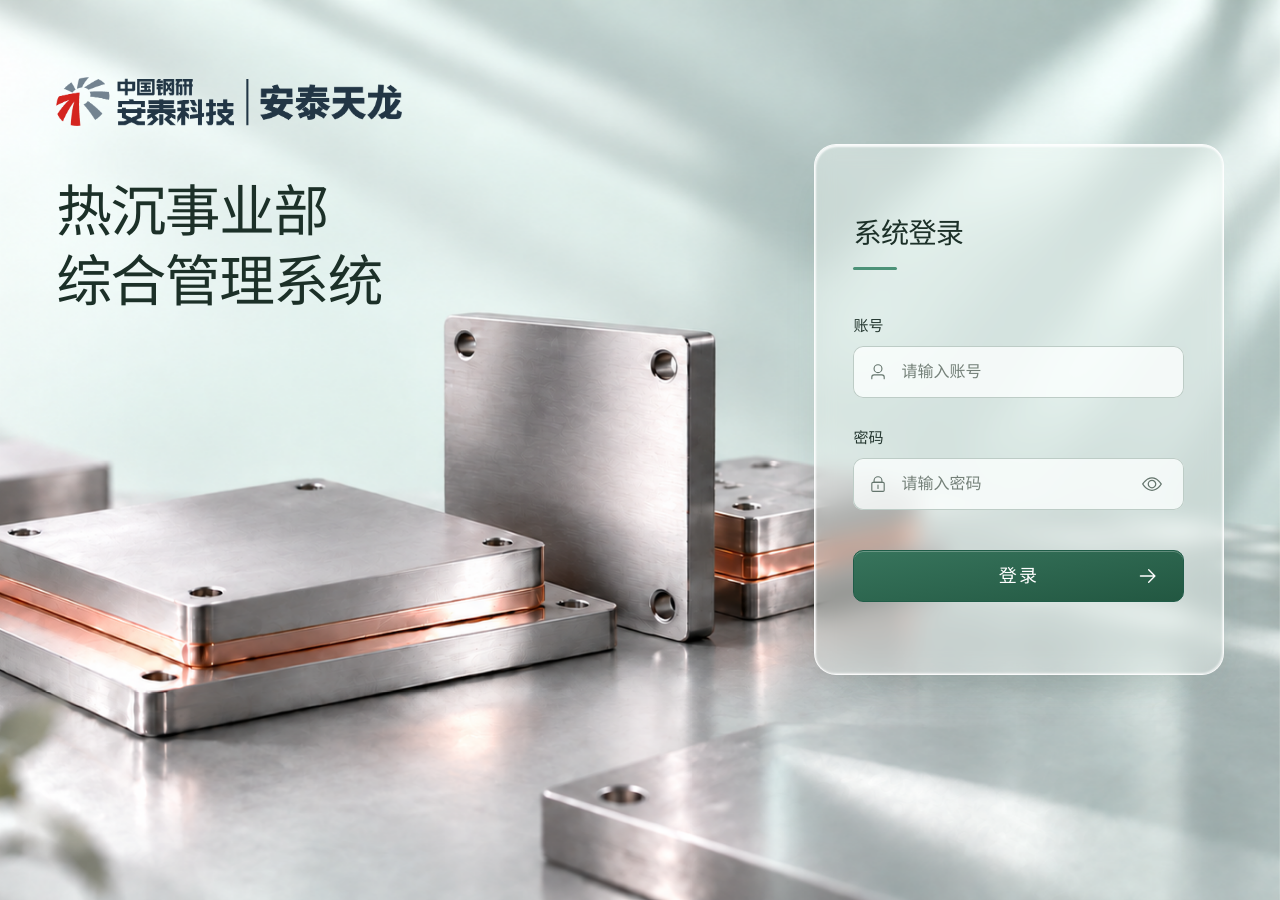
Test: login form › handles all rejected transition promises when a route import fails
Type "  operator  " into the field with id "login-username" at [1035, 372], box [902, 353, 1168, 391]
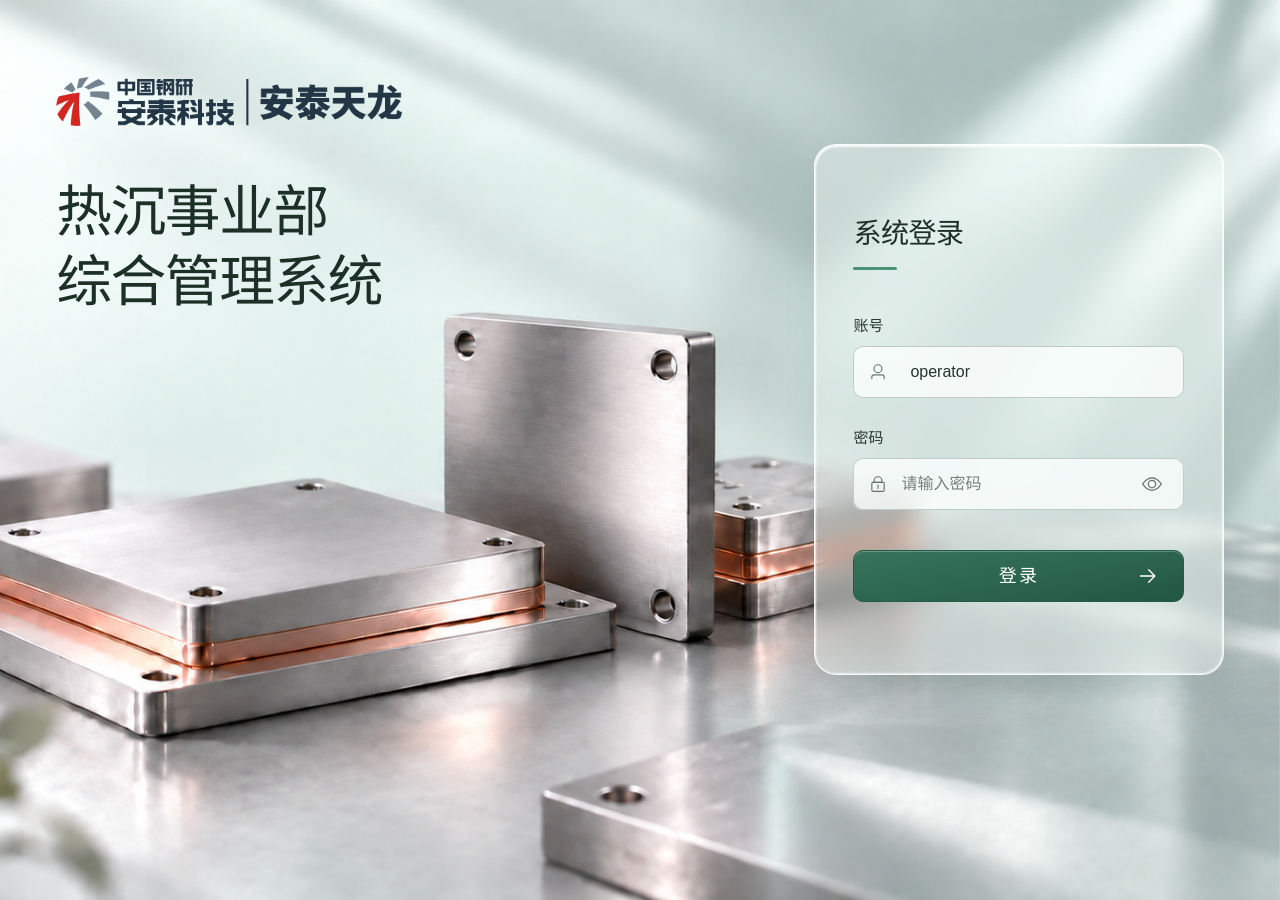
Type "test-password" into the password field with id "login-password" at [1015, 484], box [902, 465, 1128, 503]
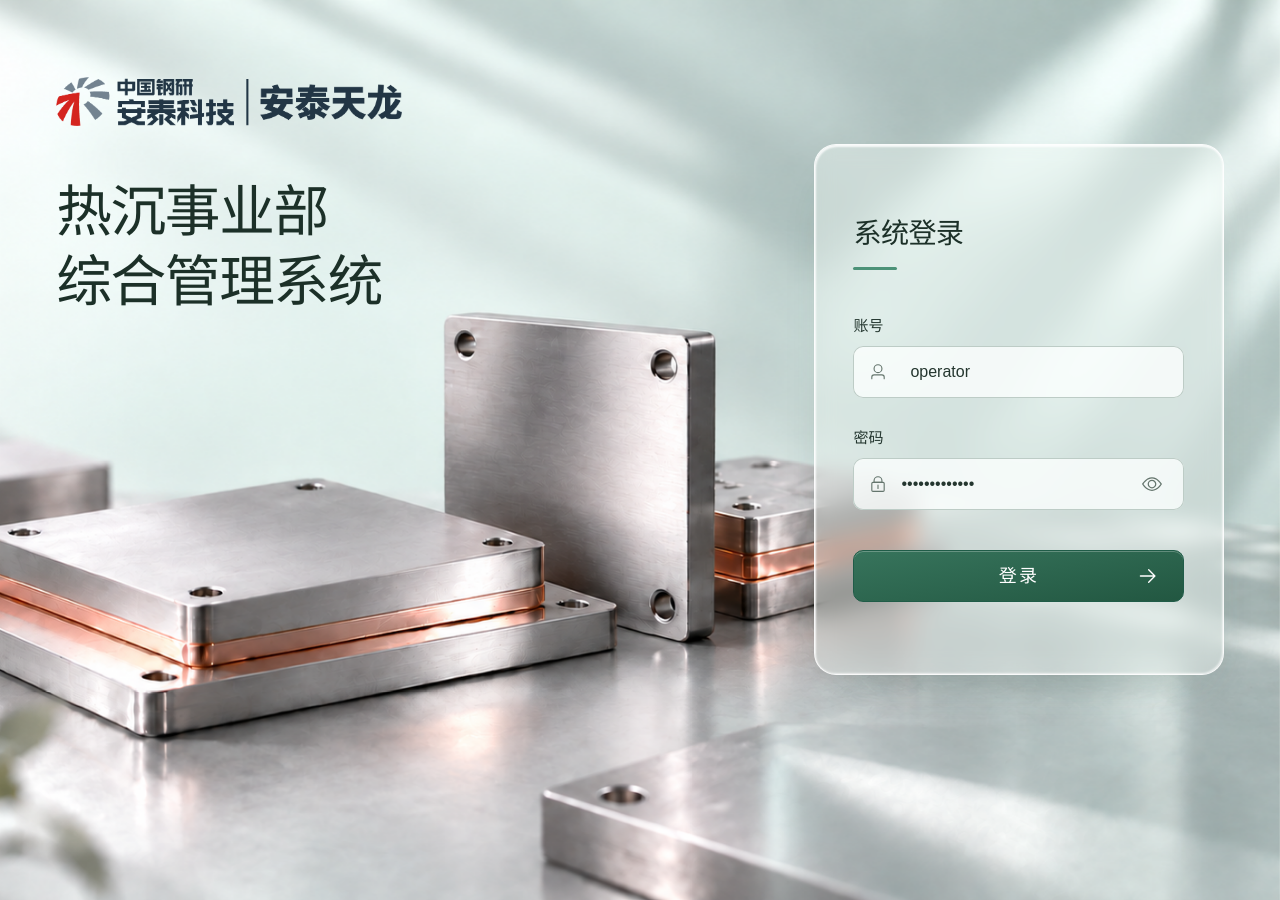
Submit the form, box [854, 314, 1184, 602]
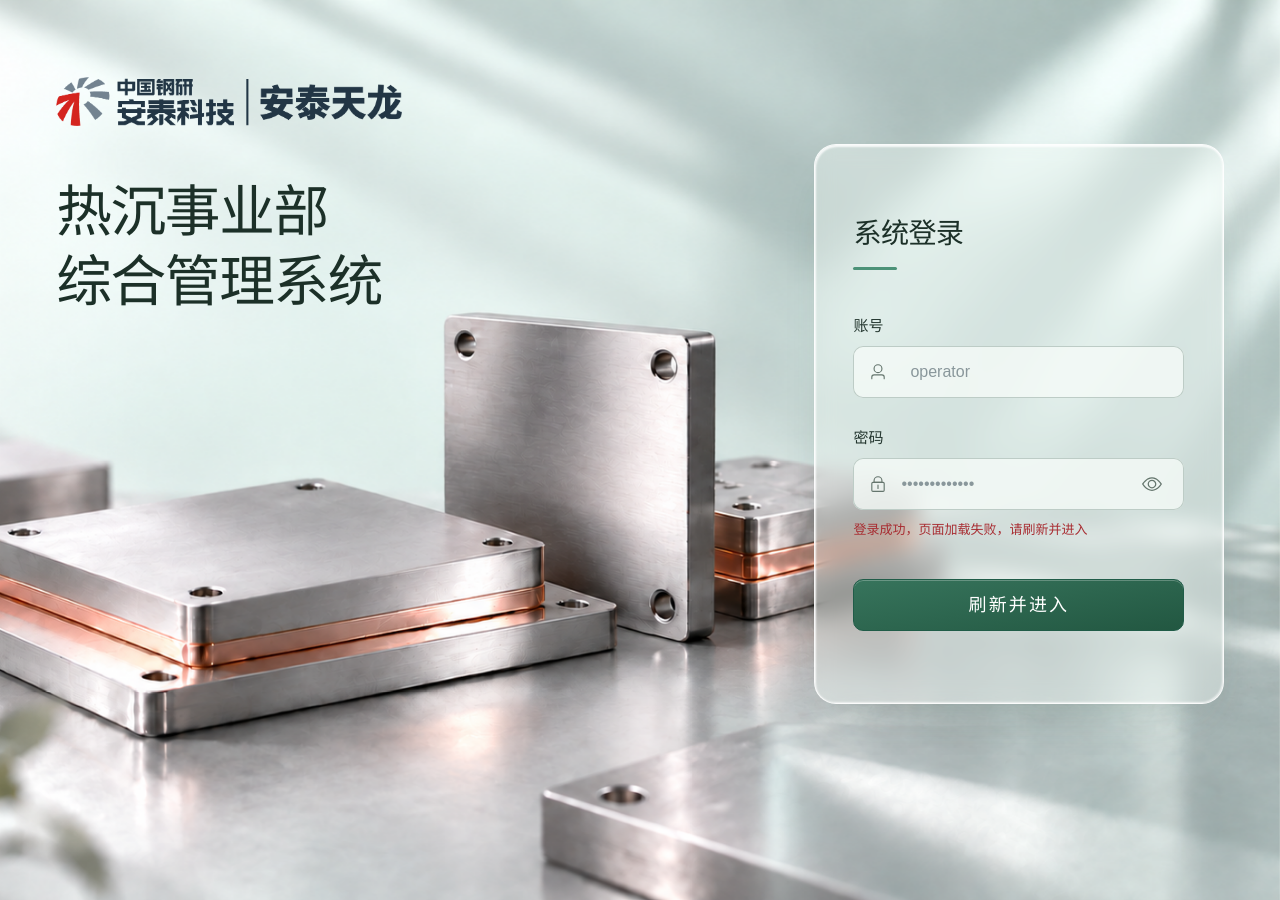
Expected: the link with class "login-submit" reads "刷新并进入", [854, 579, 1184, 631]
